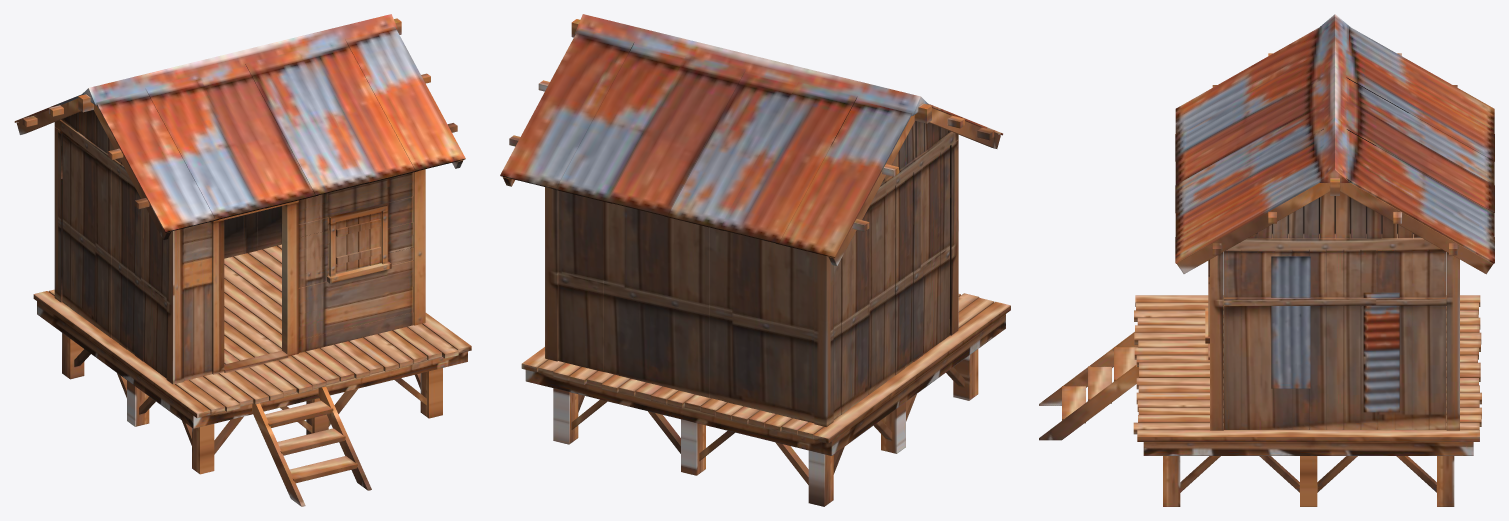
File: houdini_stilt_shack_proj.glb
3 renders of one model, left to right at view 1: azimuth 30°, elevation 25°; view 2: azimuth 150°, elevation 25°; view 3: azimuth 270°, elevation 25°, orthographic. The views are drawn at different scales.
Parts seen in each view (by area): view 1: LOD0; view 2: LOD0; view 3: LOD0.
Part boxes in pixels (box(x1,y1,x2,y2)): LOD0: box(14, 14, 471, 506); LOD0: box(500, 14, 1010, 506); LOD0: box(1039, 14, 1494, 506).
Size of what is drawn, in the model's own units: 4.04 by 4.05 by 4.74.
Materials: 1 (1 with a texture image).
